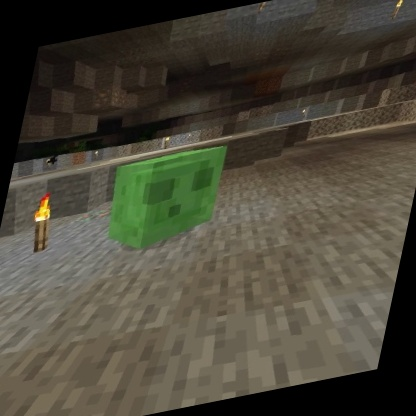slime: (92, 138, 236, 262)
